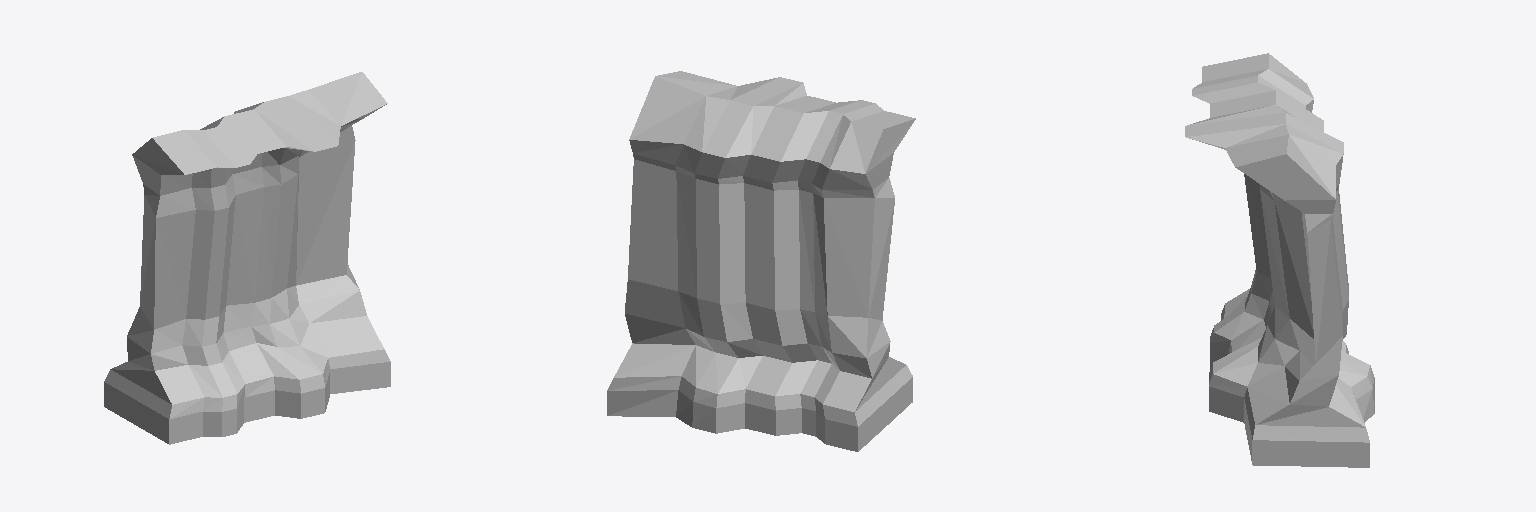
Rendered from NeanderRockWall.obj.
The picture shows the model from 3 angles: view 1: azimuth 30°, elevation 25°; view 2: azimuth 150°, elevation 25°; view 3: azimuth 270°, elevation 25°; orthographic projection.
Visible parts, largest first — view 1: pCube6; view 2: pCube6; view 3: pCube6.
Boxes of the visible parts, x1=… form: pCube6: x1=104, y1=72, x2=390, y2=444; pCube6: x1=607, y1=71, x2=915, y2=451; pCube6: x1=1185, y1=53, x2=1374, y2=467.
Bounding box in the file's own units: 7.58 × 9.3 × 5.13.